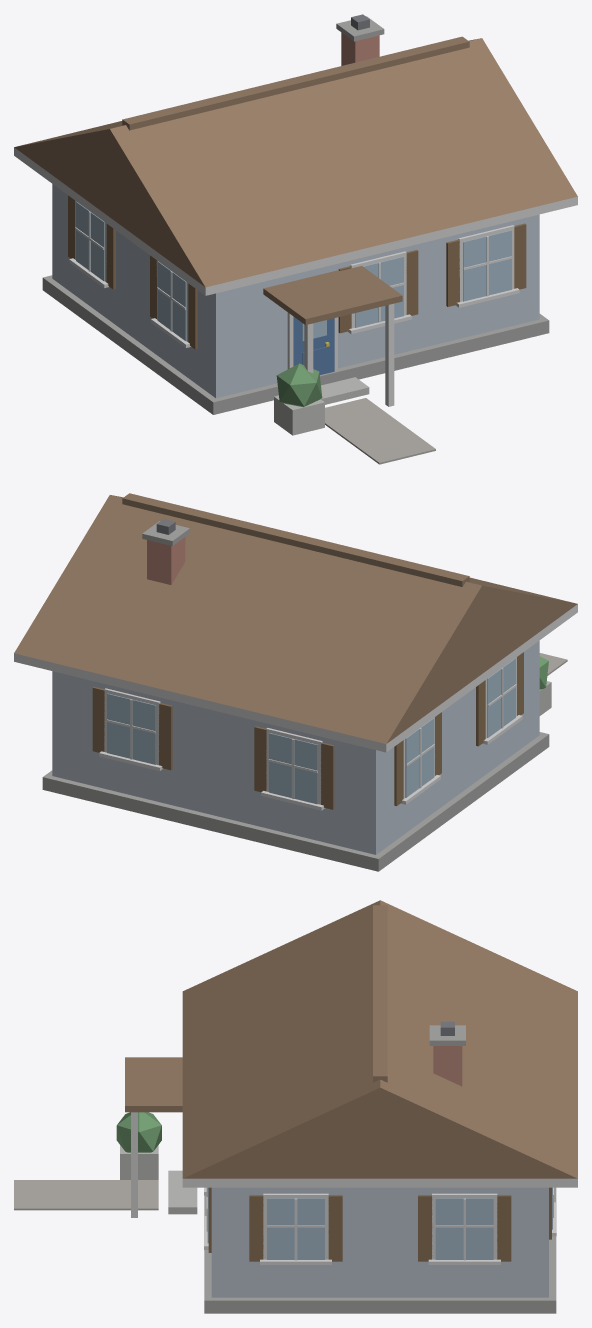
Rendered from Villa_01.glb.
The picture shows the model from 3 angles, top to bottom: view 1: azimuth 30°, elevation 25°; view 2: azimuth 150°, elevation 25°; view 3: azimuth 270°, elevation 25°; orthographic projection. The views are drawn at different scales.
Visible parts, largest first — view 1: Villa_01; view 2: Villa_01; view 3: Villa_01.
Boxes of the visible parts, x1=… form: Villa_01: x1=14, y1=14, x2=577, y2=464; Villa_01: x1=14, y1=493, x2=577, y2=871; Villa_01: x1=14, y1=900, x2=577, y2=1313.
Bounding box in the file's own units: 9.2 × 5.8 × 11.7.
